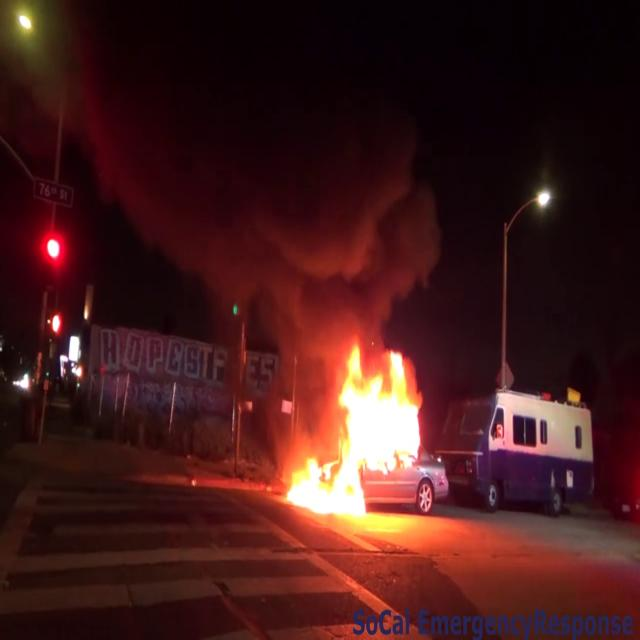Fire: (276, 338, 432, 522)
Smoke: (85, 19, 451, 344)
